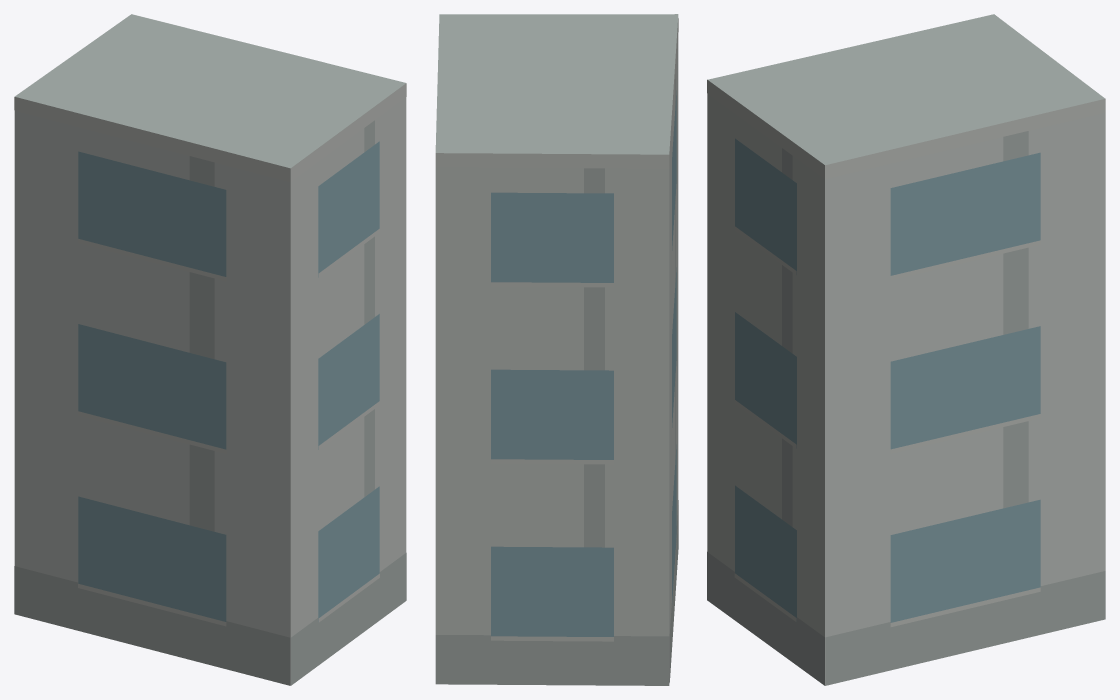
The model's file is survey-upis-32899143.glb.
3 views of the same model, side by side, from view 1: azimuth 30°, elevation 25°; view 2: azimuth 150°, elevation 25°; view 3: azimuth 270°, elevation 25° (orthographic). The views are drawn at different scales.
Visible parts, largest first — view 1: survey-upis-32899143.tmp; view 2: survey-upis-32899143.tmp; view 3: survey-upis-32899143.tmp.
Part boxes in pixels (x1,y1,x2,y2): survey-upis-32899143.tmp: (14, 14, 406, 685); survey-upis-32899143.tmp: (435, 14, 678, 685); survey-upis-32899143.tmp: (707, 14, 1105, 685).
Bounding box in the file's own units: 5.71 × 9.15 × 6.35.
